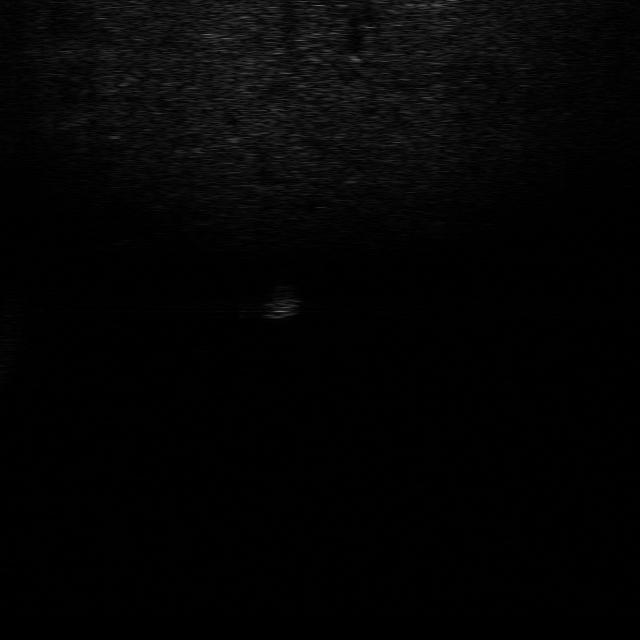human body: (260, 286, 302, 318)
